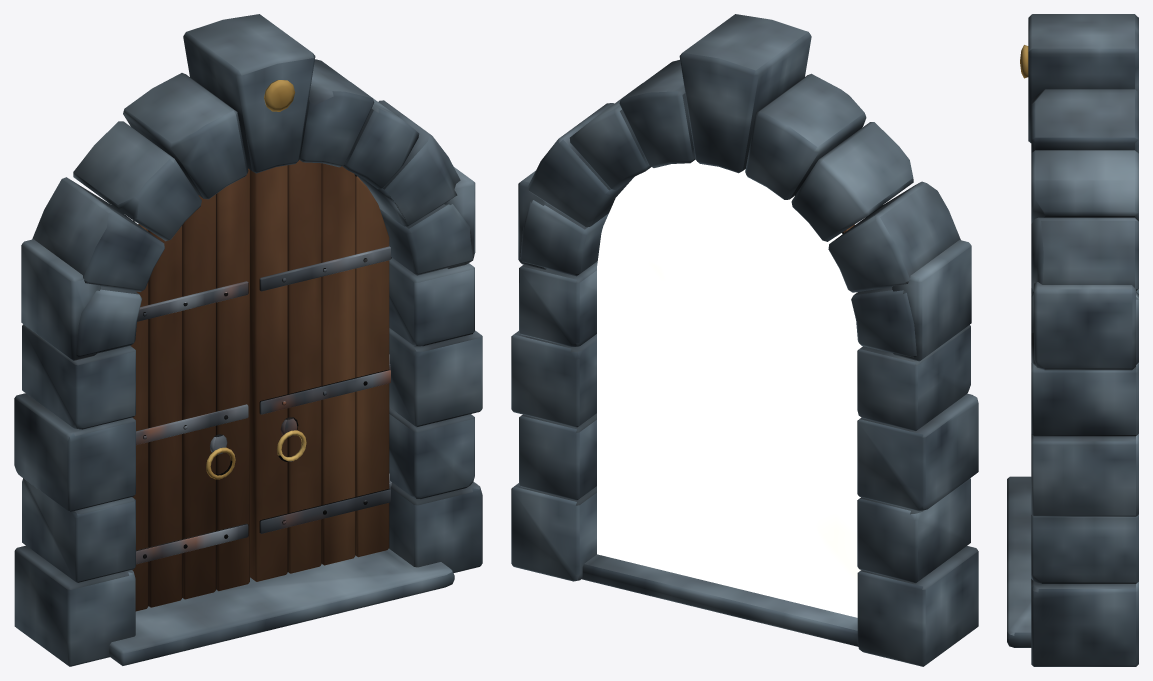
Rendered from ExitDoor.fbx.
3 renders of one model, left to right at view 1: azimuth 30°, elevation 25°; view 2: azimuth 150°, elevation 25°; view 3: azimuth 270°, elevation 25°, orthographic. The views are drawn at different scales.
Parts seen in each view (by area): view 1: ExitDoor_Frame, Door_Right, Door_Left; view 2: ExitDoor_Frame, ExitDoor_Light; view 3: ExitDoor_Frame.
Boxes of the visible parts, <box> form: ExitDoor_Frame: <box>14,14,482,666</box>; Door_Right: <box>250,160,391,581</box>; Door_Left: <box>130,168,249,611</box>; ExitDoor_Frame: <box>511,14,978,666</box>; ExitDoor_Light: <box>597,159,862,617</box>; ExitDoor_Frame: <box>1007,14,1138,666</box>.
Bounding box in the file's own units: 3.28 × 4.22 × 0.93.
